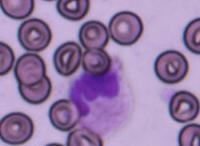N: (67, 68, 135, 140)
